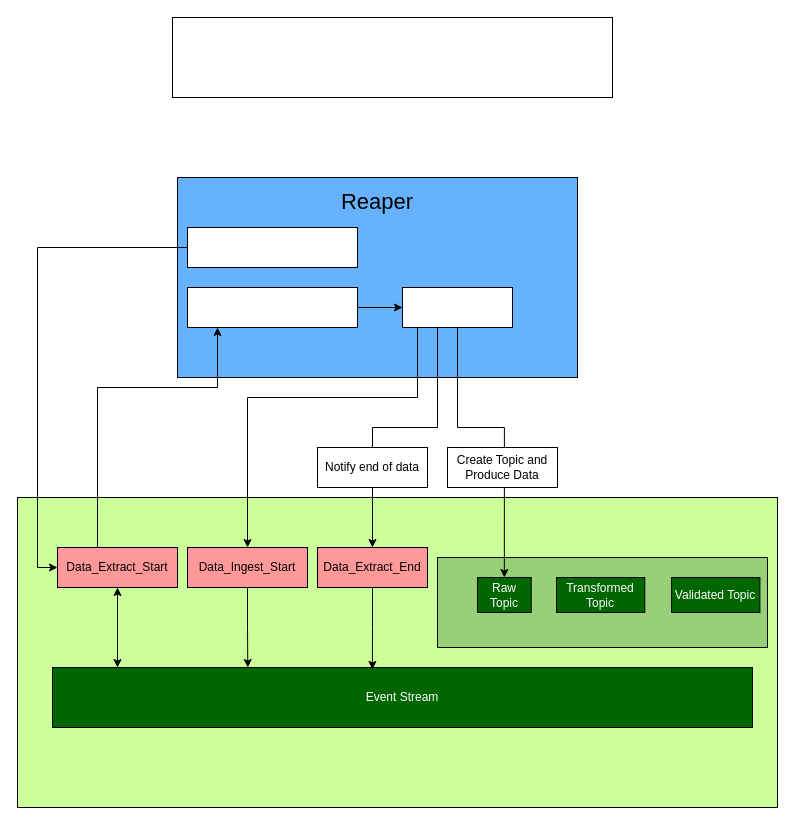
Some shapes in this 795 by 825 pixel diagram are drawn without their labels. Here are the shapes that lost their labels. From the top down, the centre of each, then its label:
point 392,57: Data Extract Start
point 272,247: Scheduled Job Executes (From Ingestion_Update event)
point 272,307: Pull Data
point 457,307: Process Data
